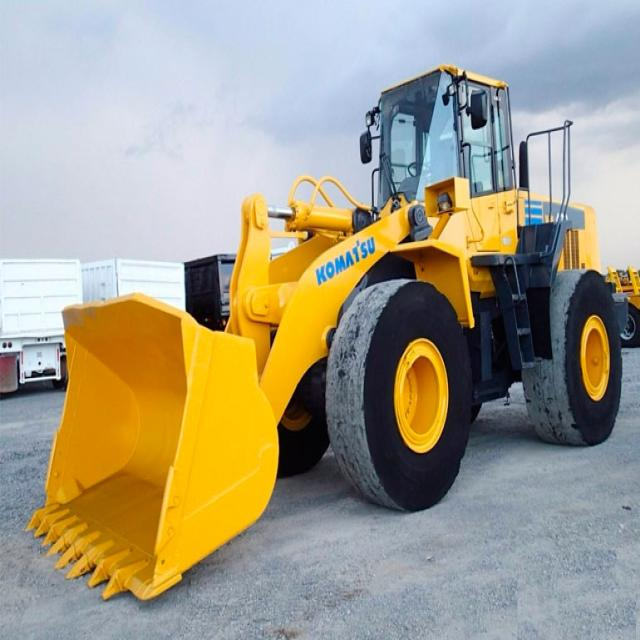buldozerpayloadergrader: (23, 59, 639, 600)
